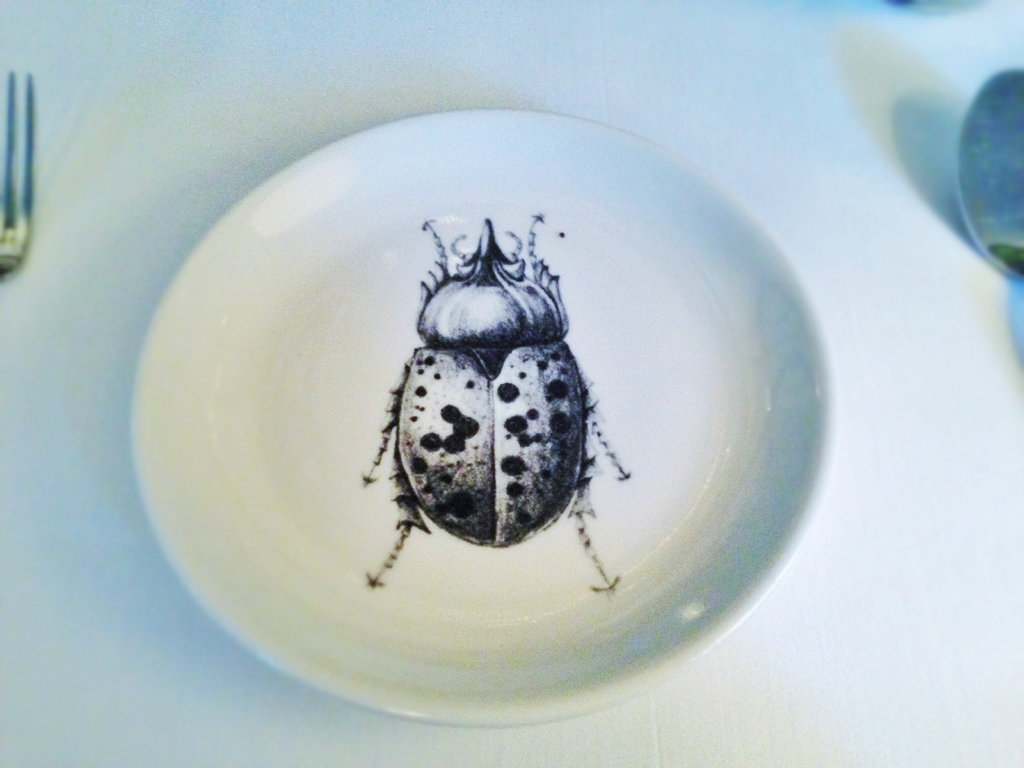plate: (115, 82, 833, 738)
